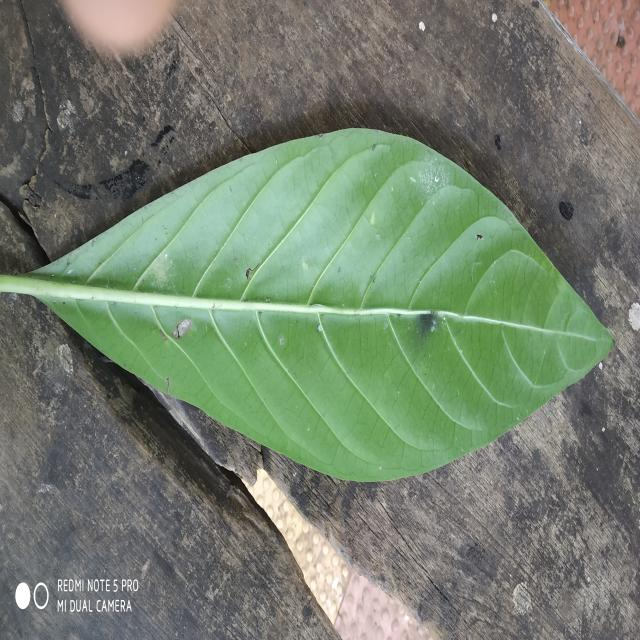nooni: (0, 129, 612, 482)
